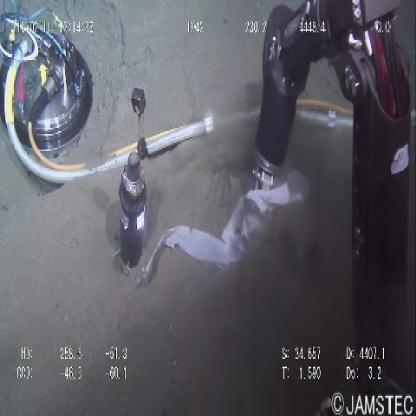Rov: (248, 2, 414, 198), (1, 2, 97, 188), (113, 75, 157, 279)
Rác: (158, 174, 313, 270)
